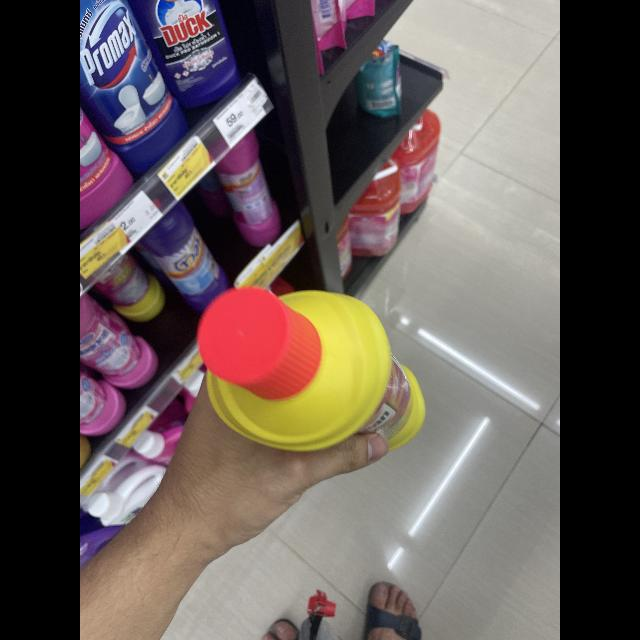chemical_plastic_bottle: (192, 284, 438, 458)
